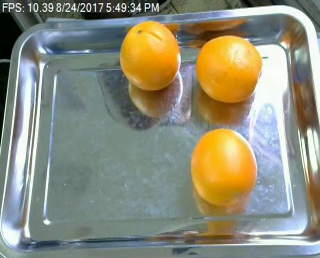Orange: (190, 126, 258, 206), (196, 34, 262, 104), (118, 20, 180, 89)
